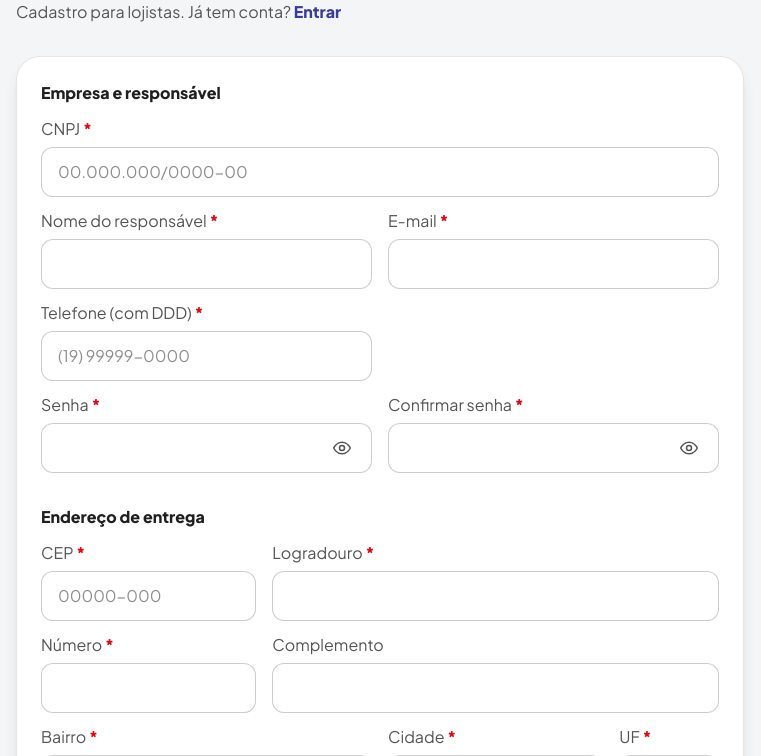
Cadastro: avisos nos campos obrigatórios › e-mail sem formato válido recebe aviso próprio
In the field labelled "E-mail *": (554, 264) [388,239,719,289], type "sem-arroba"
(page scrolled)
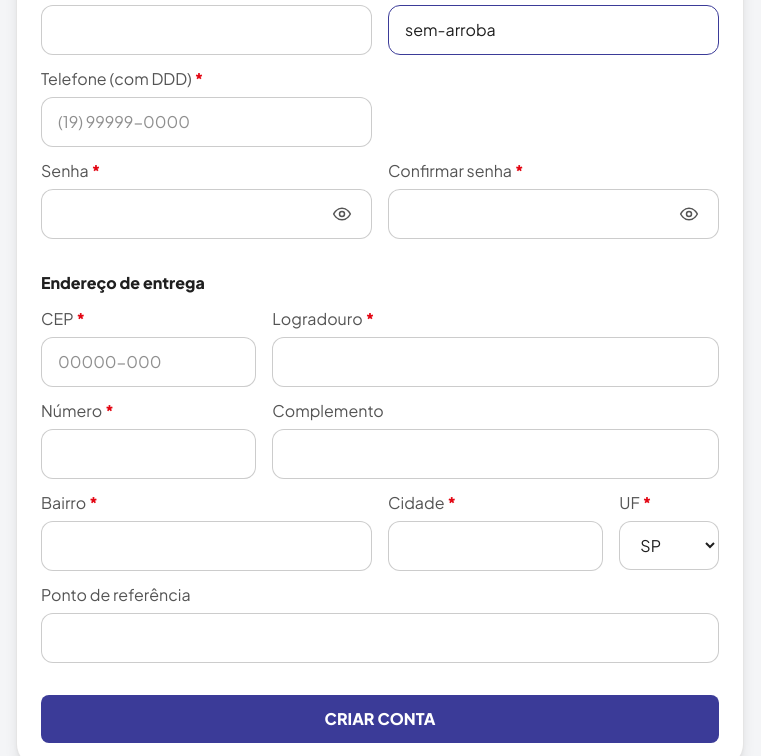
Click the button "Criar conta": (380, 719) [41,695,719,743]
(page scrolled)
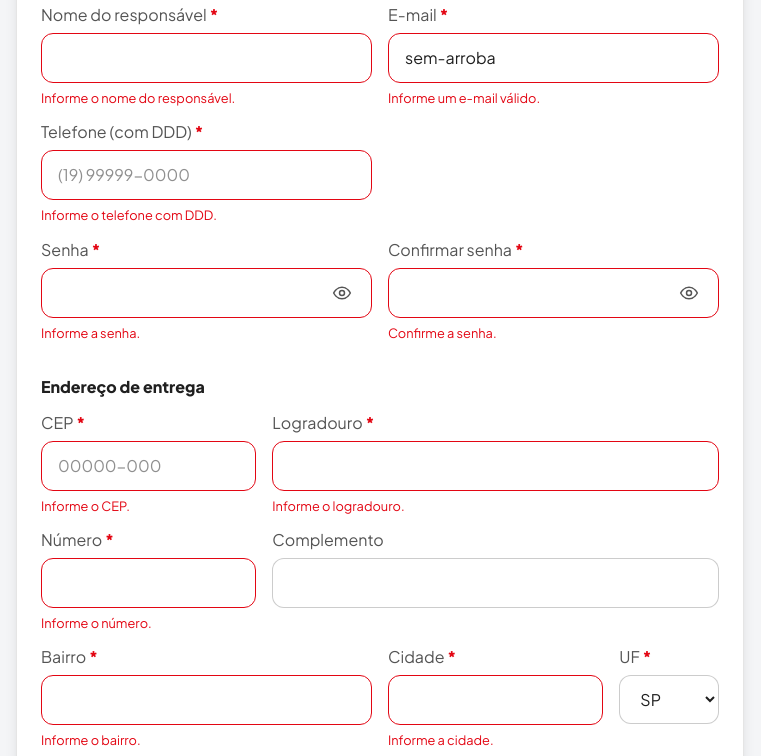
expect the text "Informe um e-mail válido." is shown: met, box [388,90,540,106]
